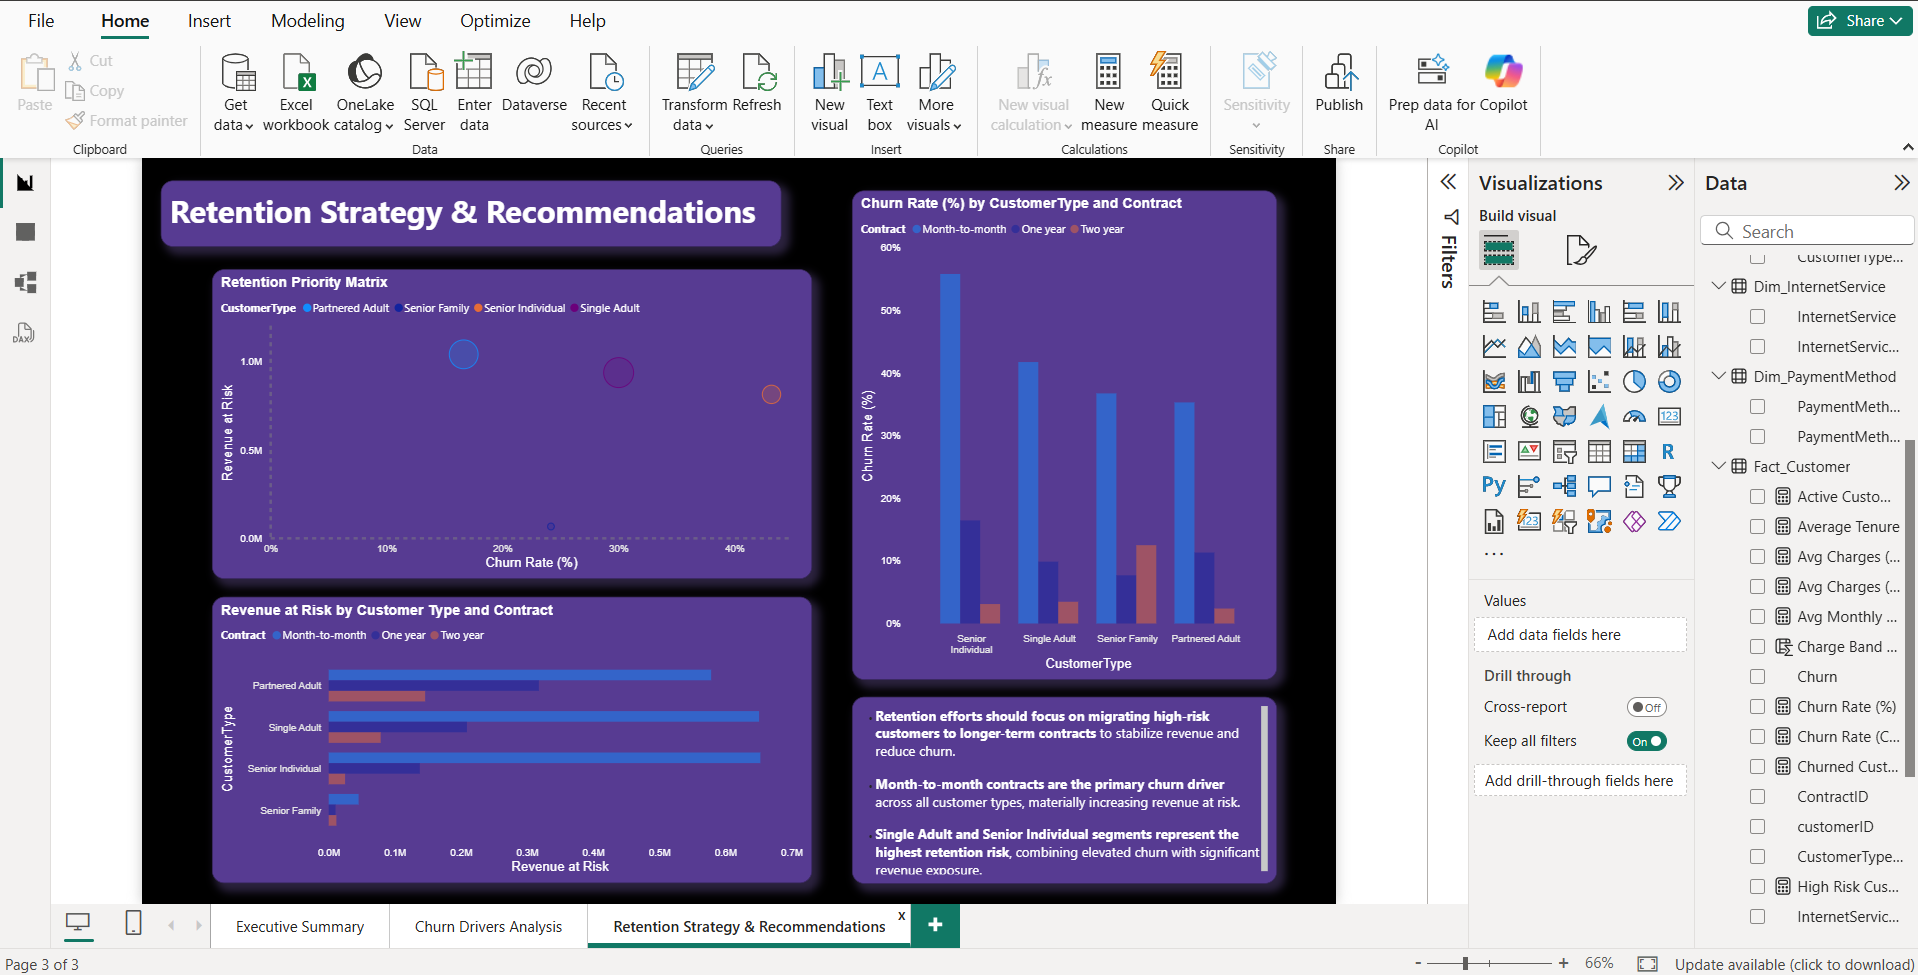

This screenshot's page, from the dashboard's own definition file:
{"tool":"powerbi","page":{"name":"Retention Strategy & Recommendations","canvas":[1440,900],"ordinal":2},"visuals":[{"type":"clusteredColumnChart","fields":{"Category":["Dim_CustomerType.CustomerType"],"Series":["Dim_Contract.Contract"],"Y":["Fact_Customer.Churn Rate (%)"]},"box":[856.5,38.7,512.9,590.3],"z":0},{"type":"clusteredBarChart","title":"Revenue at Risk by Customer Type and Contract","fields":{"Y":["Fact_Customer.Revenue at Risk"],"Category":["Dim_CustomerType.CustomerType"],"Series":["Dim_Contract.Contract"]},"box":[84.9,529.5,724,345.8],"z":1000},{"type":"scatterChart","title":"Retention Priority Matrix","fields":{"X":["Fact_Customer.Churn Rate (%)"],"Y":["Fact_Customer.Revenue at Risk"],"Size":["Fact_Customer.Total Customers"],"Series":["Dim_CustomerType.CustomerType"]},"box":[84.9,134.3,724,373.6],"z":2000},{"type":"textbox","box":[856.5,650,512.9,225.8],"z":3000},{"type":"textbox","box":[23.2,27.8,748.7,80.3],"z":4000}]}

Visuals, with their boxes on the page's 1440x900 design canvas (x1, y1, x2, y2). These are canvas units, not pixel positions in the 1918x975 screenshot, which may show the page scaled, cropped or inside an application window:
clusteredColumnChart - Dim_CustomerType.CustomerType x Dim_Contract.Contract: [856, 39, 1369, 629]
"Revenue at Risk by Customer Type and Contract" clusteredBarChart: [85, 530, 809, 875]
"Retention Priority Matrix" scatterChart: [85, 134, 809, 508]
textbox: [856, 650, 1369, 876]
textbox: [23, 28, 772, 108]
